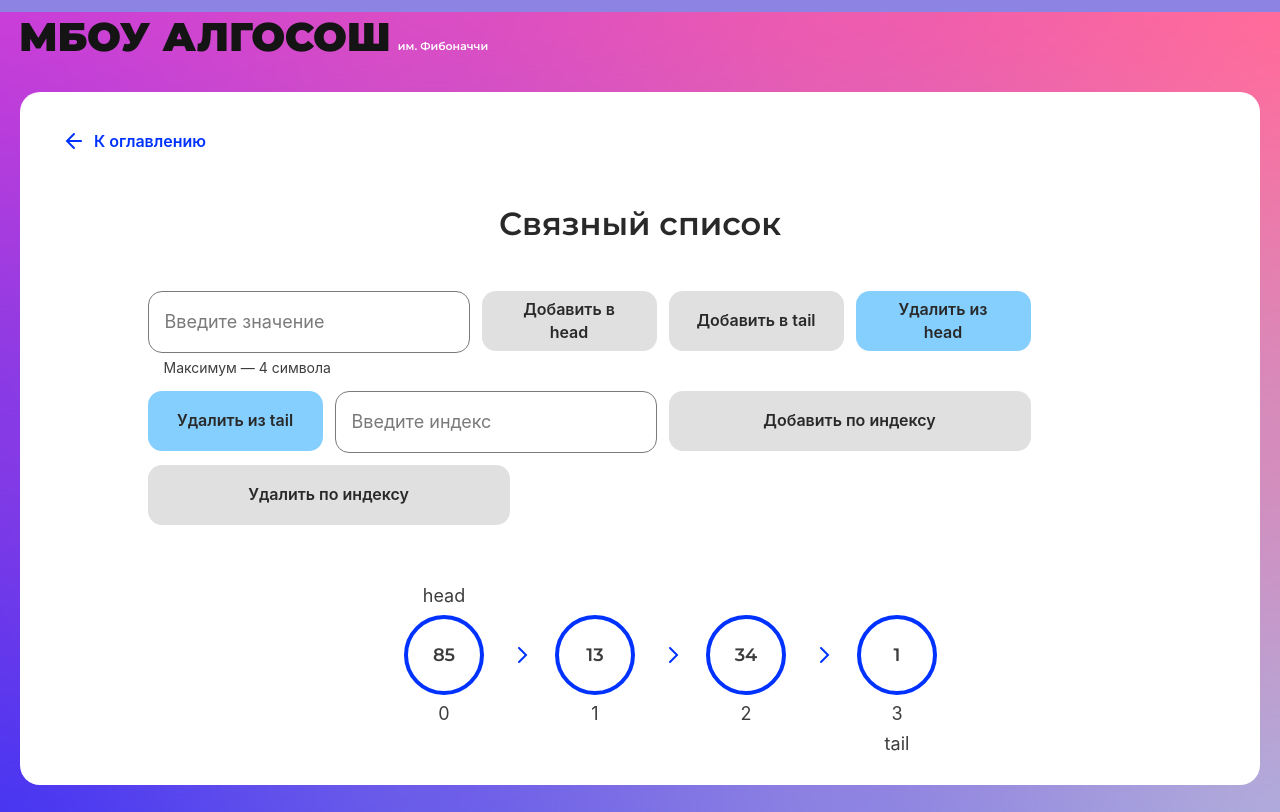
Test: List Work Is Correct › Correctness of deleting an element by index
The width and height of the screenshot is (1280, 812).
Type "2" into the field with test id "indexInput" at point(496, 422), box left=335, top=391, right=657, bottom=453
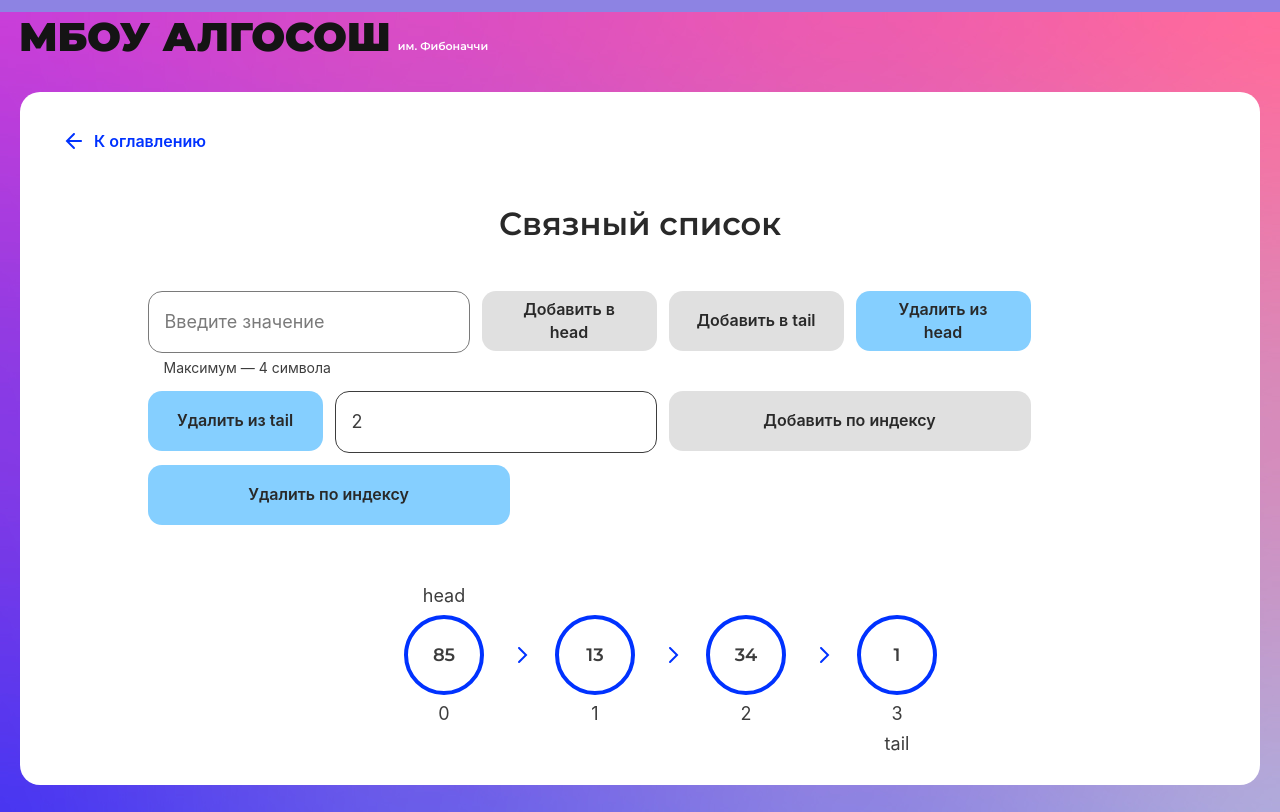
Expected: the element with test id "circle" reads "34", left=706, top=615, right=786, bottom=695
Expected: the number of elements with test id "circle" is 4, left=404, top=615, right=484, bottom=695; left=555, top=615, right=635, bottom=695; left=706, top=615, right=786, bottom=695; left=857, top=615, right=937, bottom=695
Click the button with test id "delIndexBtn" at point(329, 495), box left=148, top=465, right=510, bottom=525
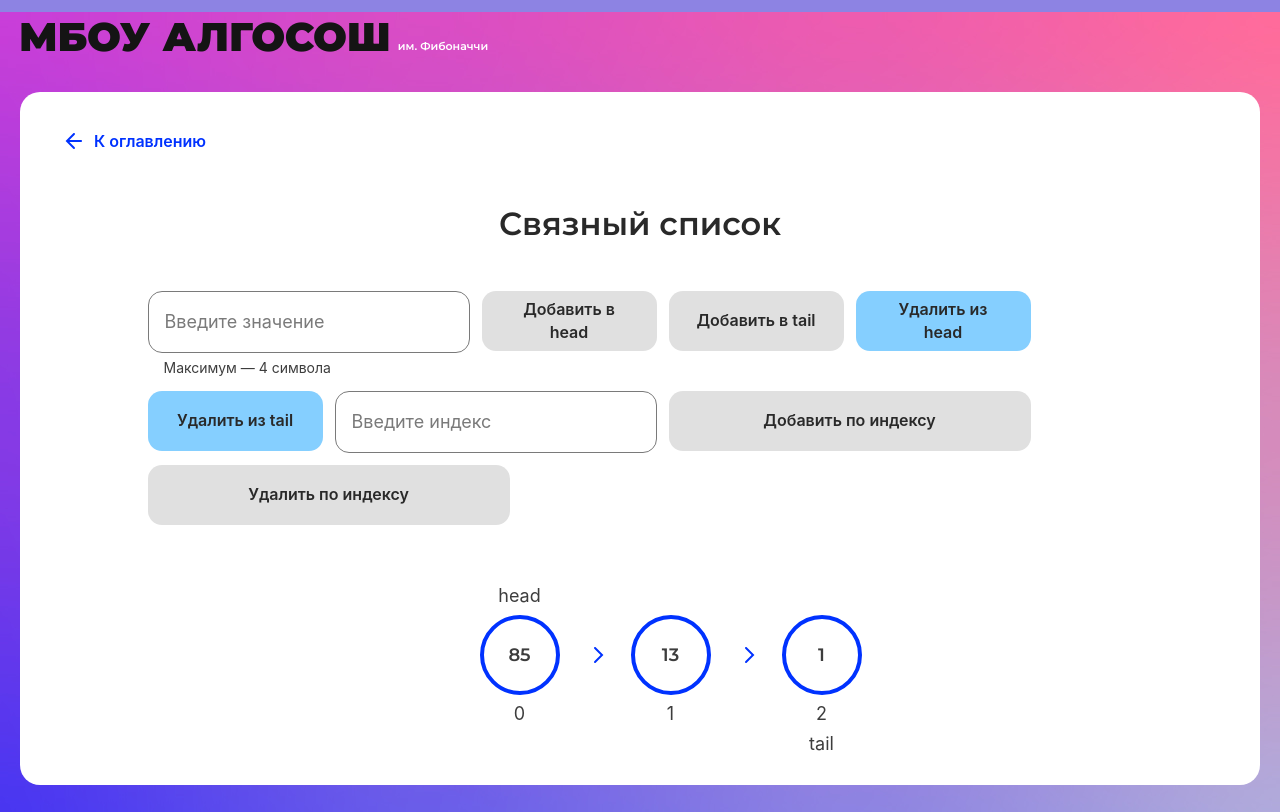
Expected: the element with test id "circle" reads "1", left=782, top=615, right=862, bottom=695
Expected: the number of elements with test id "circle" is 3, left=480, top=615, right=560, bottom=695; left=630, top=615, right=710, bottom=695; left=782, top=615, right=862, bottom=695
